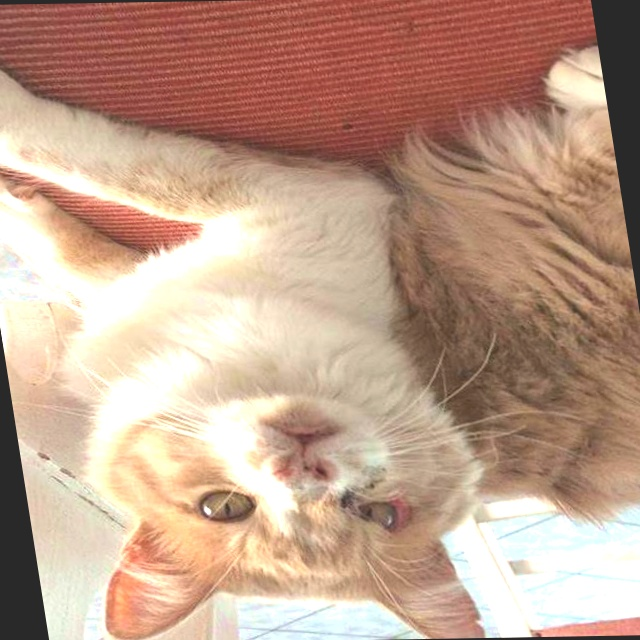eye_infection: (353, 494, 411, 540)
